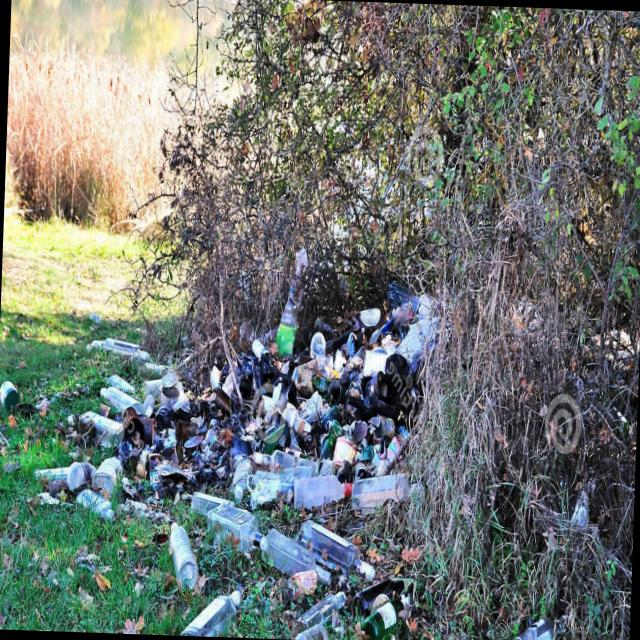garbage: (24, 261, 464, 640)
